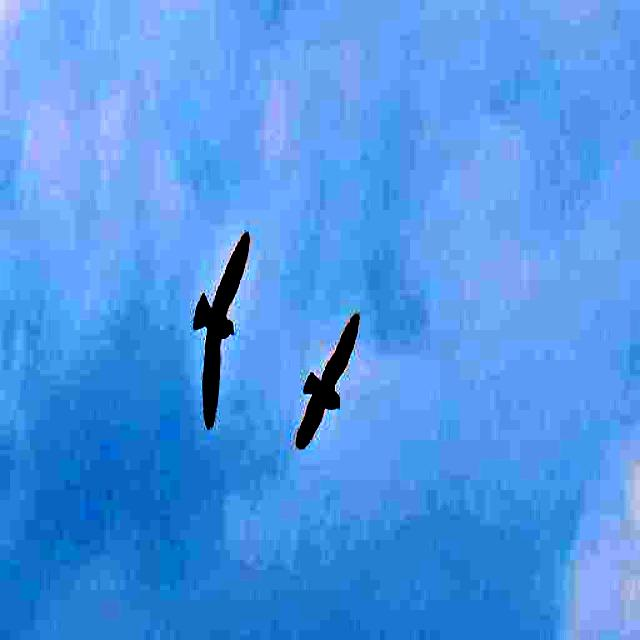airplane: (178, 222, 259, 438), (289, 310, 365, 469)
